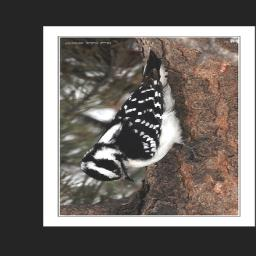Woodpecker: (80, 45, 202, 181)
